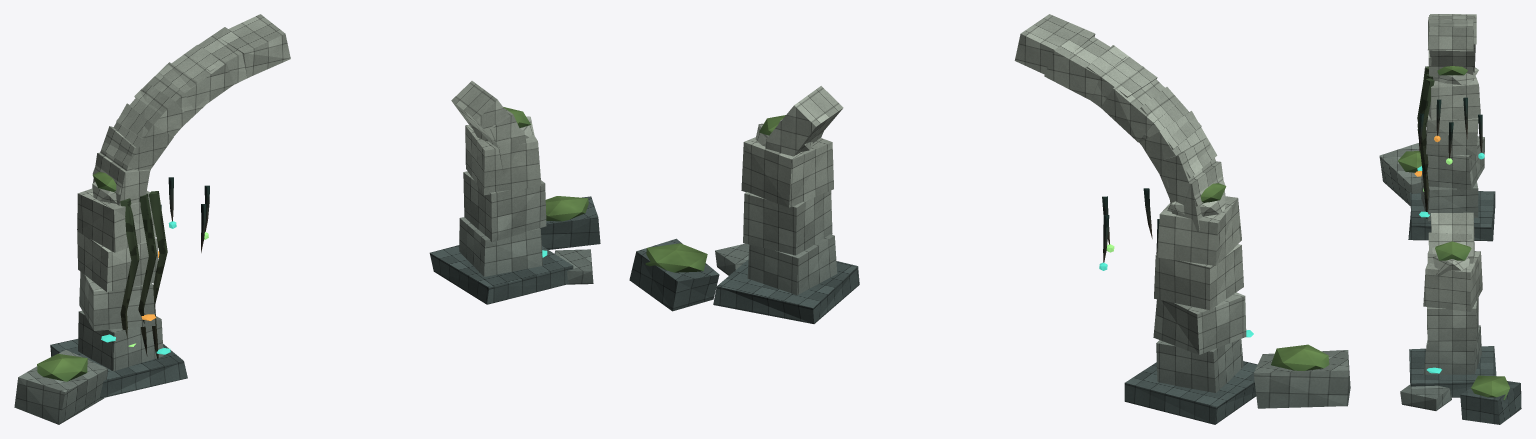
Rendered from ruin_gate.glb.
3 renders of one model, left to right at view 1: azimuth 30°, elevation 25°; view 2: azimuth 150°, elevation 25°; view 3: azimuth 270°, elevation 25°, orthographic. The views are drawn at different scales.
Parts seen in each view (by area): view 1: ruin_gate; view 2: ruin_gate; view 3: ruin_gate.
Boxes of the visible parts, <box> form: ruin_gate: <box>14,14,600,424</box>; ruin_gate: <box>629,14,1350,424</box>; ruin_gate: <box>1379,14,1521,424</box>.
Bounding box in the file's own units: 13.72 × 6.54 × 3.22.
Materials: 4 (4 with a texture image).
